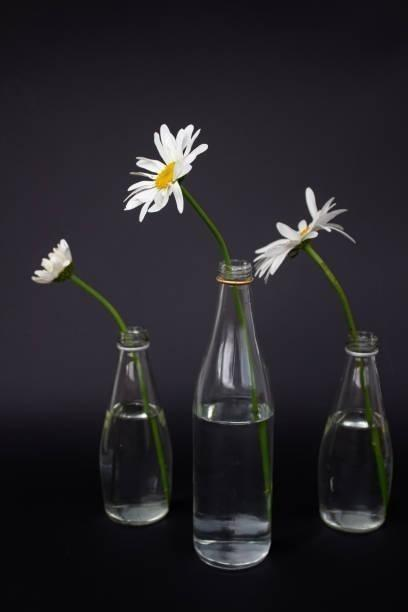bottle-glass: (187, 255, 279, 573), (313, 327, 397, 536), (95, 322, 176, 529)
